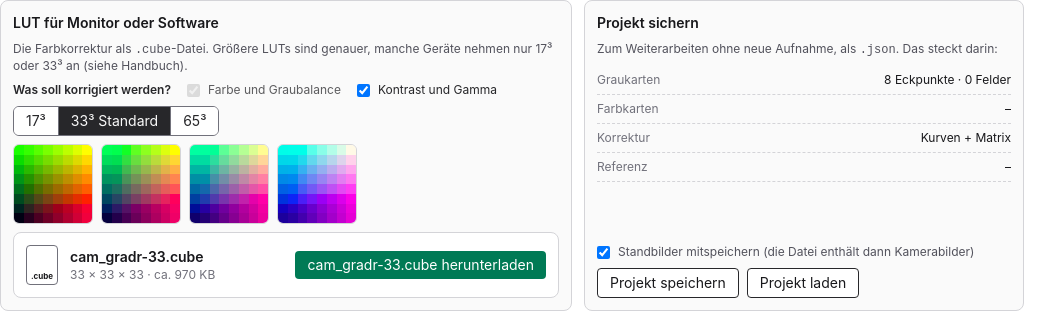
Test: ExportTab › names the slices, the file size and the project contents with a correction
The width and height of the screenshot is (1041, 328).
Expected: the number of elements with test id "lut-slice" is 4, [13,144,93,224]; [101,144,181,224]; [189,144,269,224]; [277,144,357,224]
Expected: the text with test id "export-file-info" reads "33 × 33 × 33 · ca. 970 KB", [70,267,215,282]
Click the radio button with test id "export-size-65" at (194,121), box [170,107,218,135]
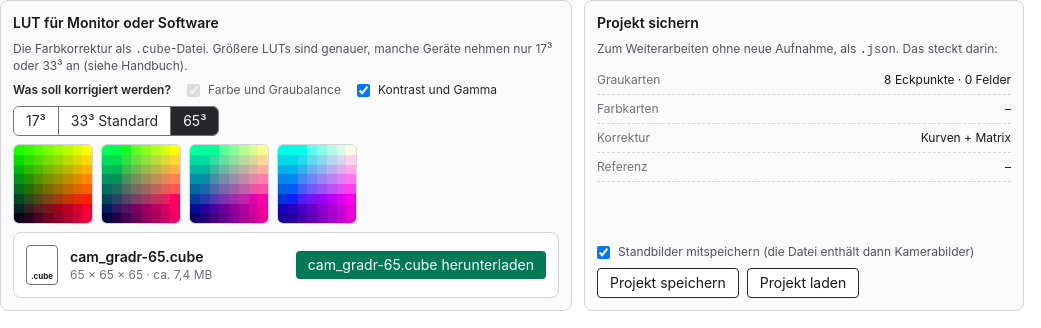
Expected: the element with test id "project-facts" shows "8 Eckpunkte · 0 Felder", [884,72,1011,87]
Expected: the text with test id "export-file-info" shows "65 × 65 × 65", [70,267,212,282]
